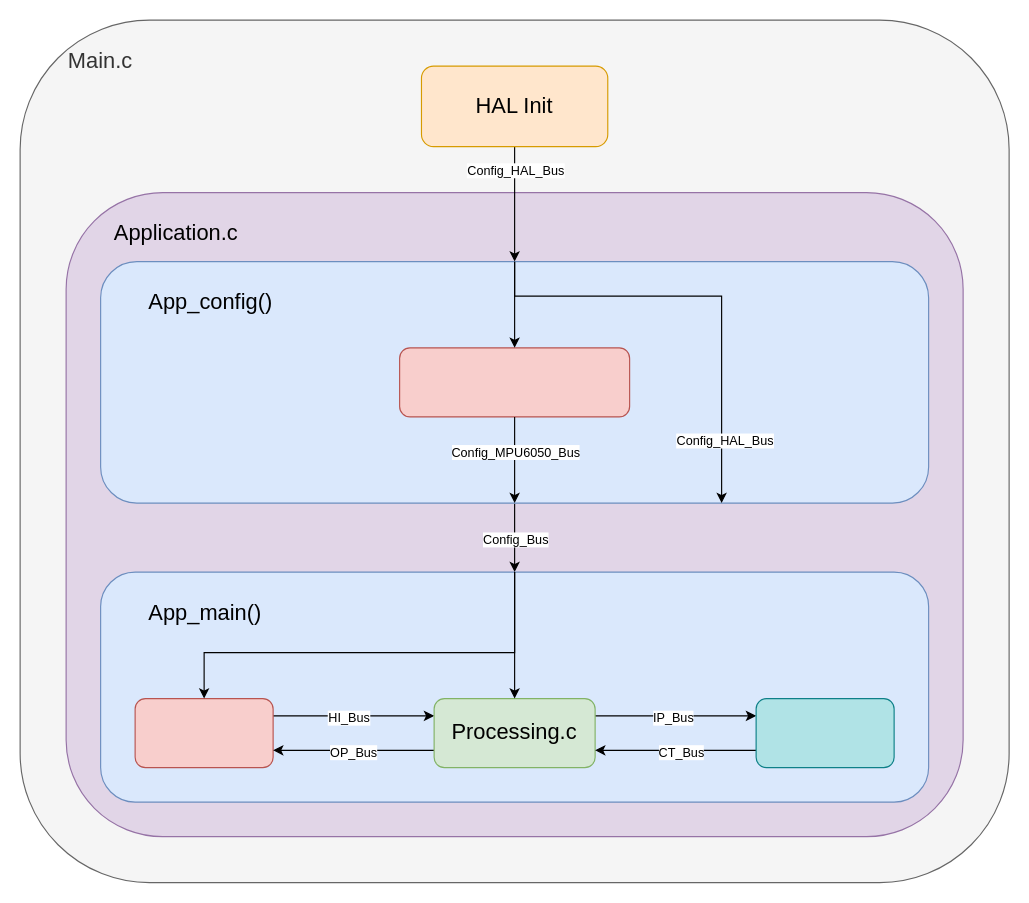
Image size: 1029x903. Some labels were removed from this diagram. Here are the shapes that lost their labels. From the top down, the centre of each, then its label:
At point 514,382: "Config_MPU6050.c".
At point 203,732: "IO.c".
At point 824,732: "Control.c".
